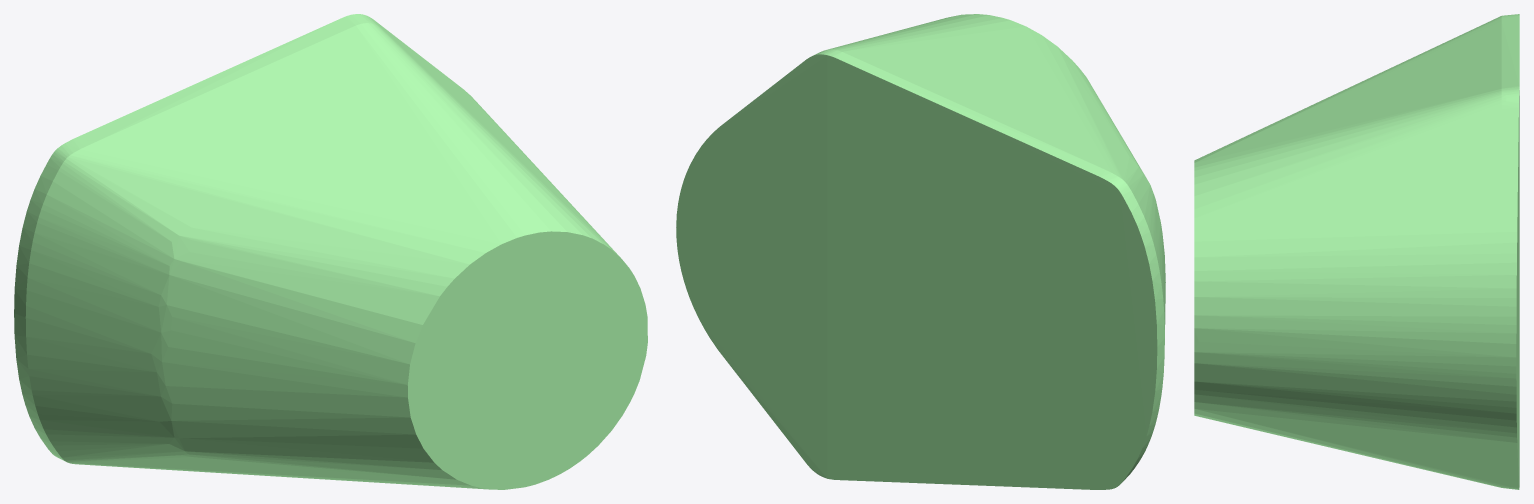
File: exported_panda_robot_base_coll_1.dae
The picture shows the model from 3 angles, left to right: view 1: azimuth 30°, elevation 25°; view 2: azimuth 150°, elevation 25°; view 3: azimuth 270°, elevation 25°; orthographic projection. The views are drawn at different scales.
Parts seen in each view (by area): view 1: node; view 2: node; view 3: node.
Boxes of the visible parts, bbox=[...] form: node: bbox=[14, 14, 647, 489]; node: bbox=[676, 14, 1165, 489]; node: bbox=[1194, 14, 1519, 489].
Size of the model in its own units: 0.2256 by 0.1892 by 0.14.
